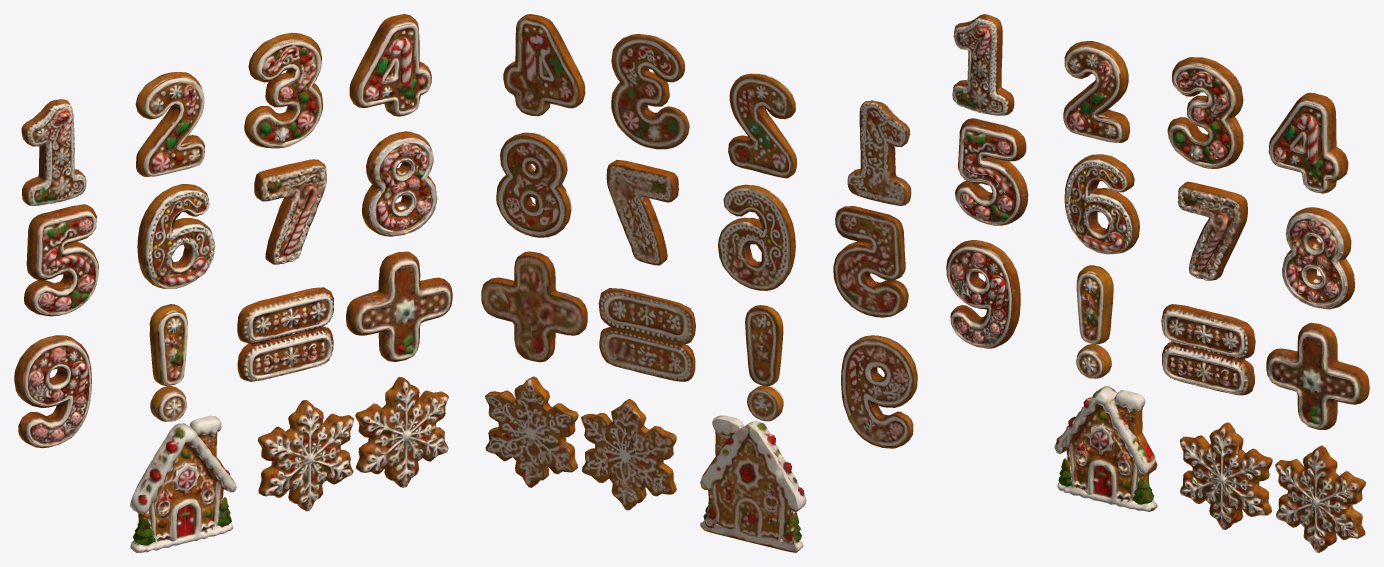
The picture shows the model from 3 angles, left to right: view 1: azimuth 30°, elevation 25°; view 2: azimuth 150°, elevation 25°; view 3: azimuth 330°, elevation 25°; orthographic projection. The views are drawn at different scales.
Visible parts, largest first — view 1: model_part3, model_part9, model_part12, model_part10, model_part0, model_part15, model_part2, model_part13, model_part16, model_part6, model_part14, model_part4 (+4 smaller); view 2: model_part3, model_part9, model_part10, model_part12, model_part0, model_part15, model_part13, model_part2, model_part16, model_part6, model_part14, model_part4 (+4 smaller); view 3: model_part3, model_part9, model_part10, model_part12, model_part15, model_part0, model_part2, model_part13, model_part16, model_part6, model_part14, model_part4 (+4 smaller).
Part boxes in pixels (x1=…): model_part3: x1=130, y1=415, x2=236, y2=552; model_part9: x1=237, y1=287, x2=334, y2=381; model_part12: x1=258, y1=400, x2=353, y2=511; model_part10: x1=244, y1=32, x2=322, y2=148; model_part0: x1=14, y1=335, x2=91, y2=447; model_part15: x1=355, y1=376, x2=448, y2=487; model_part2: x1=24, y1=204, x2=98, y2=316; model_part13: x1=346, y1=251, x2=452, y2=361; model_part16: x1=362, y1=131, x2=437, y2=236; model_part6: x1=137, y1=184, x2=215, y2=288; model_part14: x1=349, y1=14, x2=431, y2=116; model_part4: x1=135, y1=72, x2=204, y2=176; model_part3: x1=700, y1=415, x2=806, y2=552; model_part9: x1=598, y1=288, x2=695, y2=381; model_part10: x1=611, y1=34, x2=689, y2=149; model_part12: x1=581, y1=399, x2=676, y2=510; model_part0: x1=841, y1=335, x2=917, y2=448; model_part15: x1=485, y1=376, x2=578, y2=487; model_part13: x1=481, y1=251, x2=587, y2=362; model_part2: x1=833, y1=206, x2=908, y2=317; model_part16: x1=496, y1=132, x2=571, y2=237; model_part6: x1=718, y1=184, x2=795, y2=290; model_part14: x1=503, y1=14, x2=585, y2=116; model_part4: x1=728, y1=73, x2=796, y2=178; model_part3: x1=1054, y1=386, x2=1157, y2=511; model_part9: x1=1161, y1=304, x2=1255, y2=395; model_part10: x1=1167, y1=57, x2=1243, y2=168; model_part12: x1=1180, y1=422, x2=1272, y2=529; model_part15: x1=1275, y1=445, x2=1365, y2=552; model_part0: x1=946, y1=240, x2=1020, y2=348; model_part2: x1=955, y1=118, x2=1028, y2=225; model_part13: x1=1266, y1=323, x2=1369, y2=429; model_part16: x1=1282, y1=207, x2=1354, y2=309; model_part6: x1=1064, y1=154, x2=1139, y2=254; model_part14: x1=1268, y1=92, x2=1348, y2=193; model_part4: x1=1063, y1=41, x2=1130, y2=142.
Bounding box in the file's own units: 1.8 × 1.9 × 0.0851.
1 material, 1 textured.
